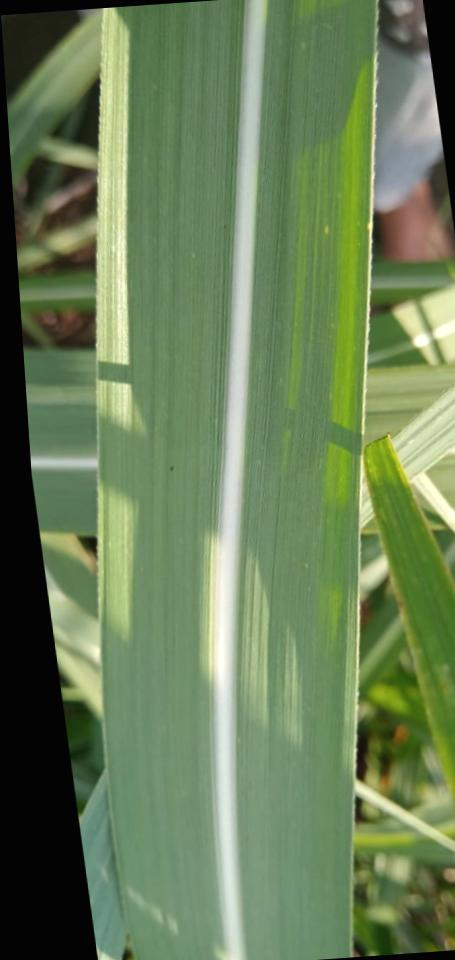Healthy: (96, 0, 377, 960), (27, 402, 97, 534)
